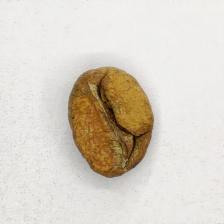NG: (70, 78, 139, 167)
